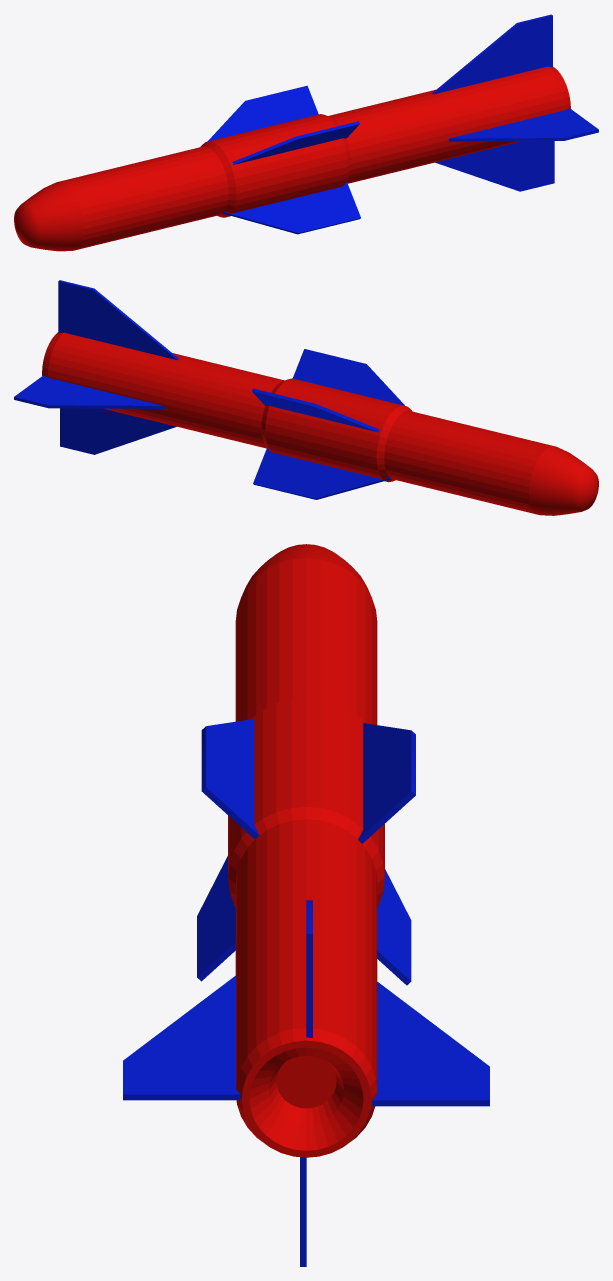
File: Helicopter_Missile.fbx
3 renders of one model, top to bottom at view 1: azimuth 30°, elevation 25°; view 2: azimuth 150°, elevation 25°; view 3: azimuth 270°, elevation 25°, orthographic. The views are drawn at different scales.
Parts seen in each view (by area): view 1: Missile; view 2: Missile; view 3: Missile.
Part boxes in pixels (x1,y1,x2,y2): Missile: (14,14,598,251); Missile: (14,280,598,515); Missile: (123,544,489,1266).
Bounding box in the file's own units: 3 × 0.8868 × 0.8868.
